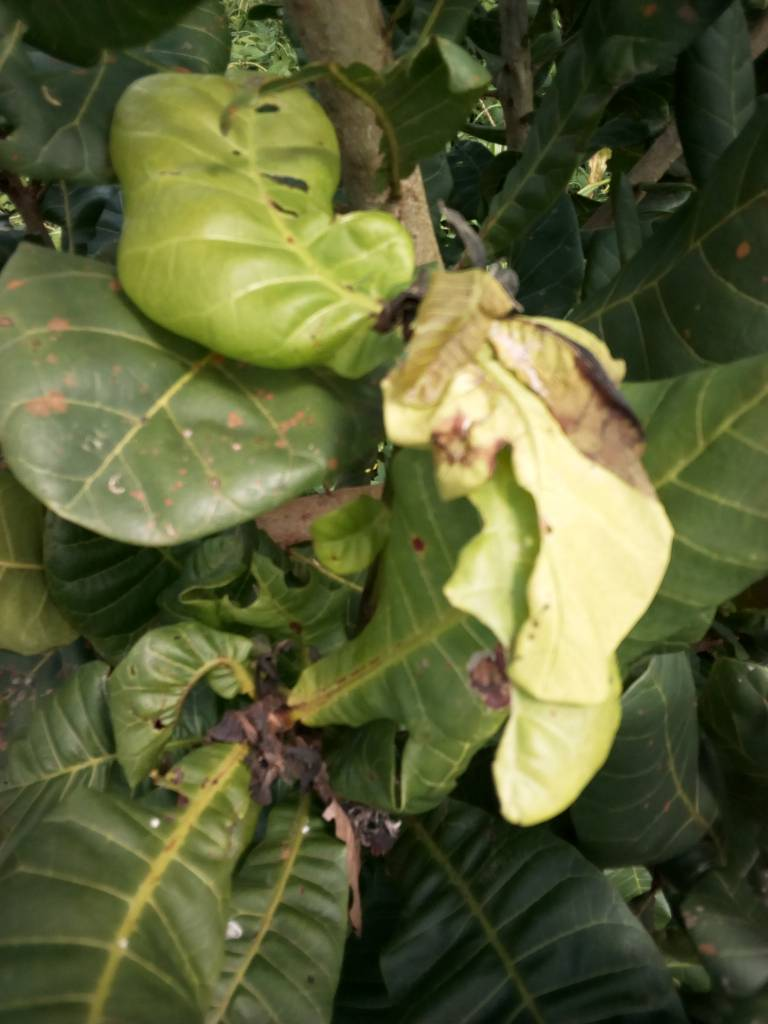Die-black: (214, 678, 332, 805)
